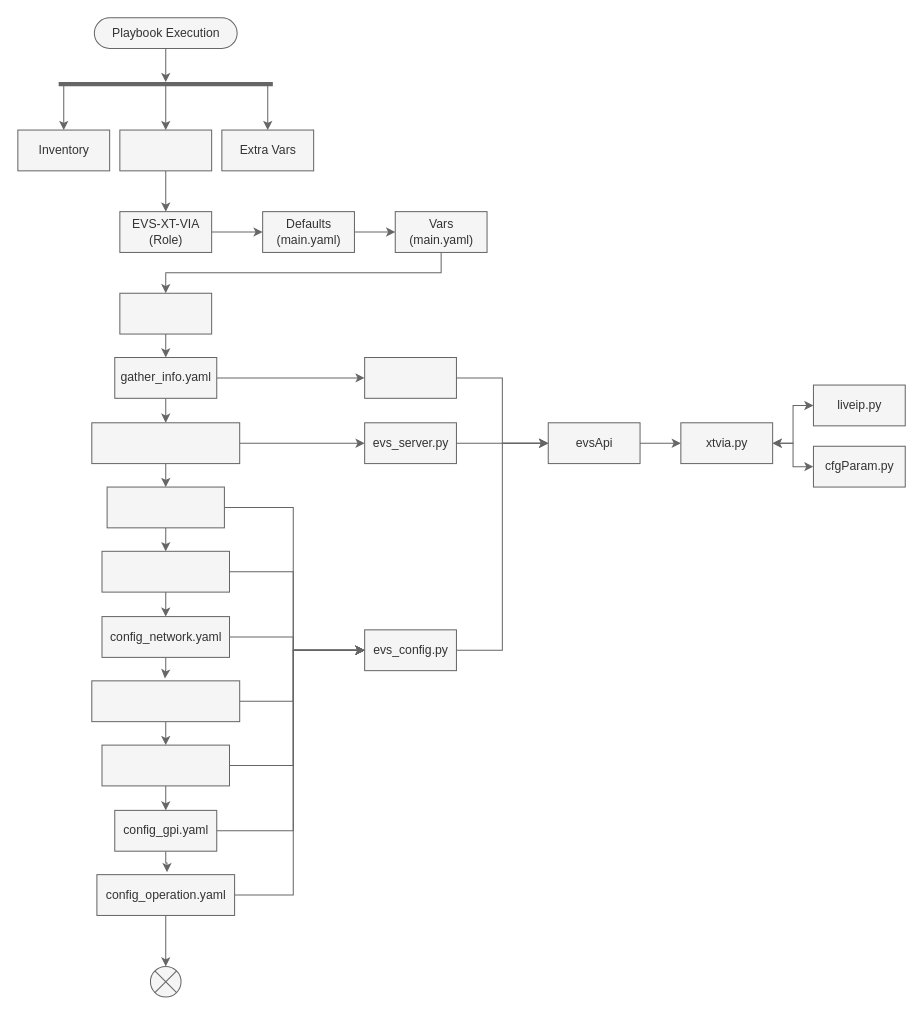
This 923x1015 diagram has some shape labels left out. The shapes that lost their labels are listed below. From the top down, each one's box as (x1, y1, x2, y2) in pixels, then its label:
(119, 129, 212, 171): Playbook
(119, 292, 212, 334): main.yaml (tasks)
(364, 356, 456, 398): evs_facts.py
(91, 422, 240, 464): check_server_info.yaml
(106, 486, 224, 528): config_name.yaml
(101, 550, 230, 592): config_channel.yaml
(91, 680, 240, 722): config_monitoring.yaml
(101, 744, 230, 786): config_protocol.yaml
